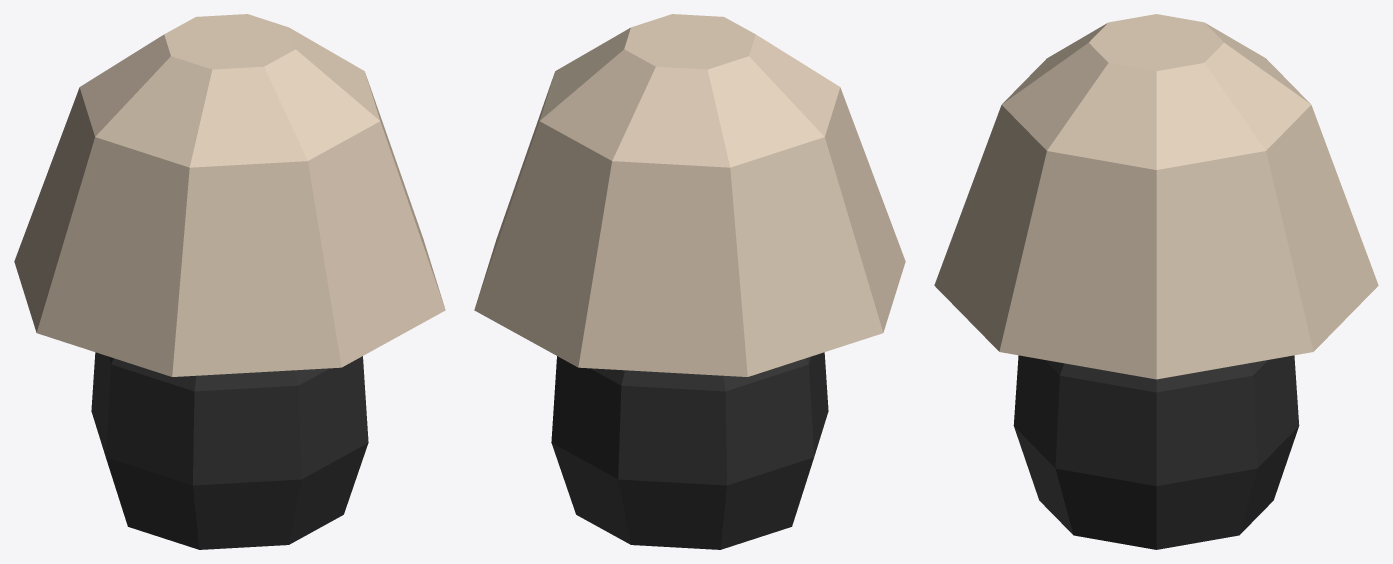
The model's file is Vaselamp.fbx.
The picture shows the model from 3 angles, left to right: view 1: azimuth 30°, elevation 25°; view 2: azimuth 150°, elevation 25°; view 3: azimuth 270°, elevation 25°; orthographic projection.
Visible parts, largest first — view 1: Vaselamp; view 2: Vaselamp; view 3: Vaselamp.
Part boxes in pixels (x1=…): Vaselamp: x1=14, y1=14, x2=445, y2=549; Vaselamp: x1=474, y1=14, x2=905, y2=549; Vaselamp: x1=934, y1=14, x2=1378, y2=549.
Bounding box in the file's own units: 0.2616 × 0.2973 × 0.2616.
